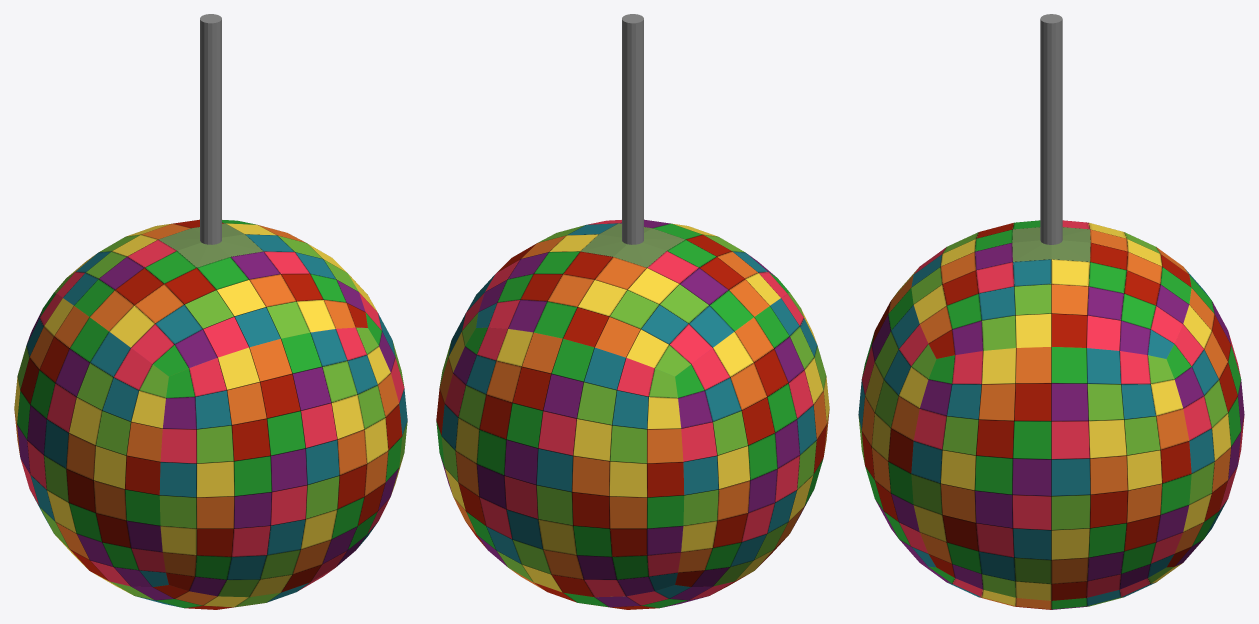
File: disco_ball.glb
3 views of the same model, side by side, from view 1: azimuth 30°, elevation 25°; view 2: azimuth 150°, elevation 25°; view 3: azimuth 270°, elevation 25° (orthographic).
Visible parts, largest first — view 1: Cylinder; view 2: Cylinder; view 3: Cylinder.
Part boxes in pixels (x1,y1,x2,y2): Cylinder: [14, 14, 407, 609]; Cylinder: [436, 14, 829, 609]; Cylinder: [858, 14, 1244, 609].
Size of the model in its own units: 1.68 by 2.74 by 1.68.
2 materials, 1 textured.
